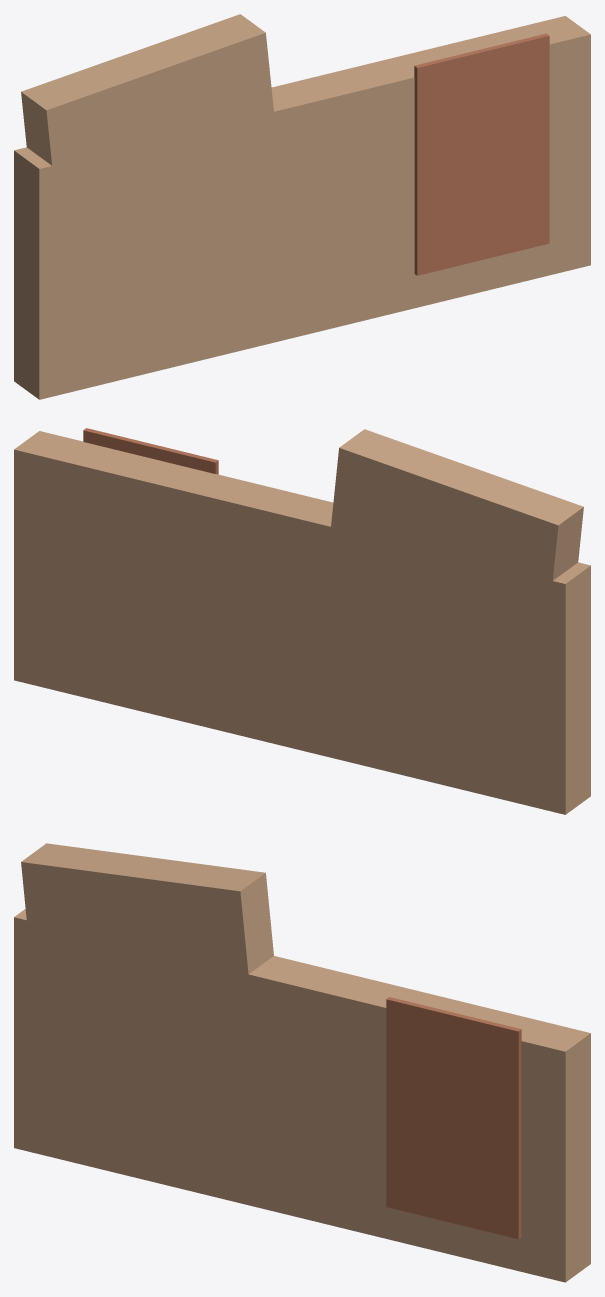
The model's file is RuinWall.glb.
3 renders of one model, top to bottom at view 1: azimuth 30°, elevation 25°; view 2: azimuth 150°, elevation 25°; view 3: azimuth 330°, elevation 25°, orthographic.
Visible parts, largest first — view 1: RuinWall; view 2: RuinWall; view 3: RuinWall.
Boxes of the visible parts, x1=… form: RuinWall: x1=14, y1=14, x2=590, y2=399; RuinWall: x1=14, y1=428, x2=590, y2=814; RuinWall: x1=14, y1=843, x2=590, y2=1282.
Size of the model in its own units: 5 by 2.7 by 0.445.
